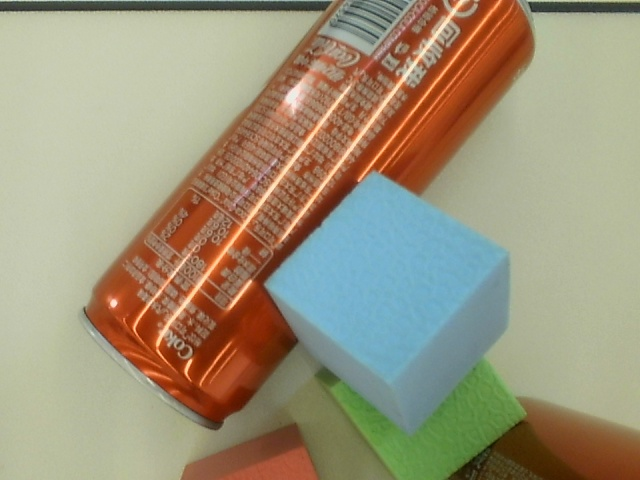bluecube: (262, 171, 523, 429)
cola: (72, 1, 572, 433)
greencube: (304, 334, 532, 480)
redcube: (174, 418, 336, 480)
